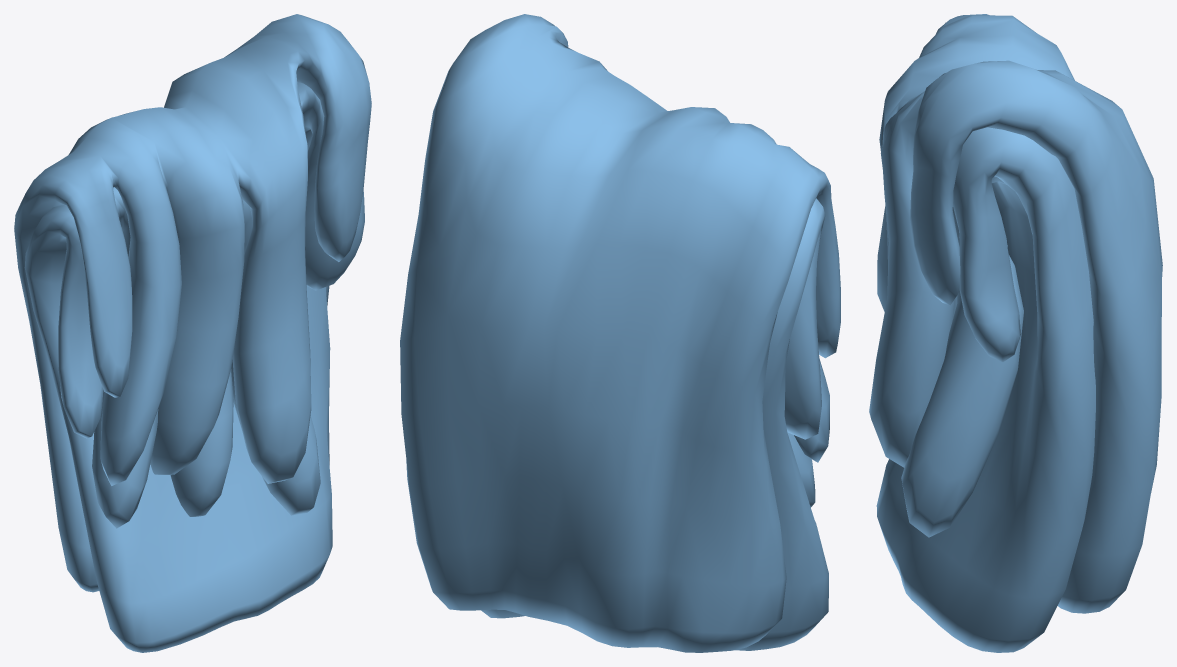
File: gloves_folded.fbx
3 renders of one model, left to right at view 1: azimuth 30°, elevation 25°; view 2: azimuth 150°, elevation 25°; view 3: azimuth 270°, elevation 25°, orthographic. The views are drawn at different scales.
Visible parts, largest first — view 1: Cube; view 2: Cube; view 3: Cube.
Boxes of the visible parts, box(x1,y1,x2,y2) form: Cube: box(14, 14, 371, 652); Cube: box(400, 14, 840, 652); Cube: box(869, 14, 1162, 652).
Size of the model in its own units: 0.0825 by 0.1329 by 0.0601.
